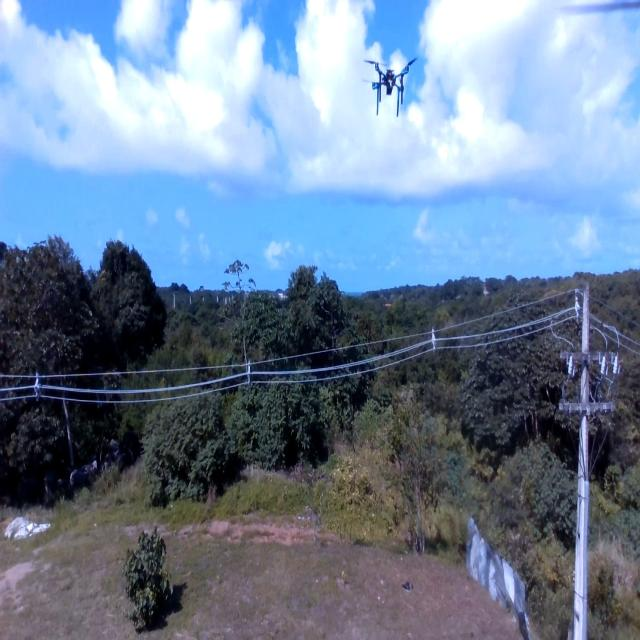-uav-: (360, 44, 423, 124)
